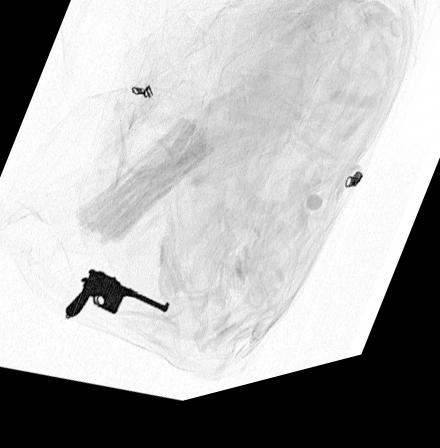Gun: (65, 273, 169, 322)
